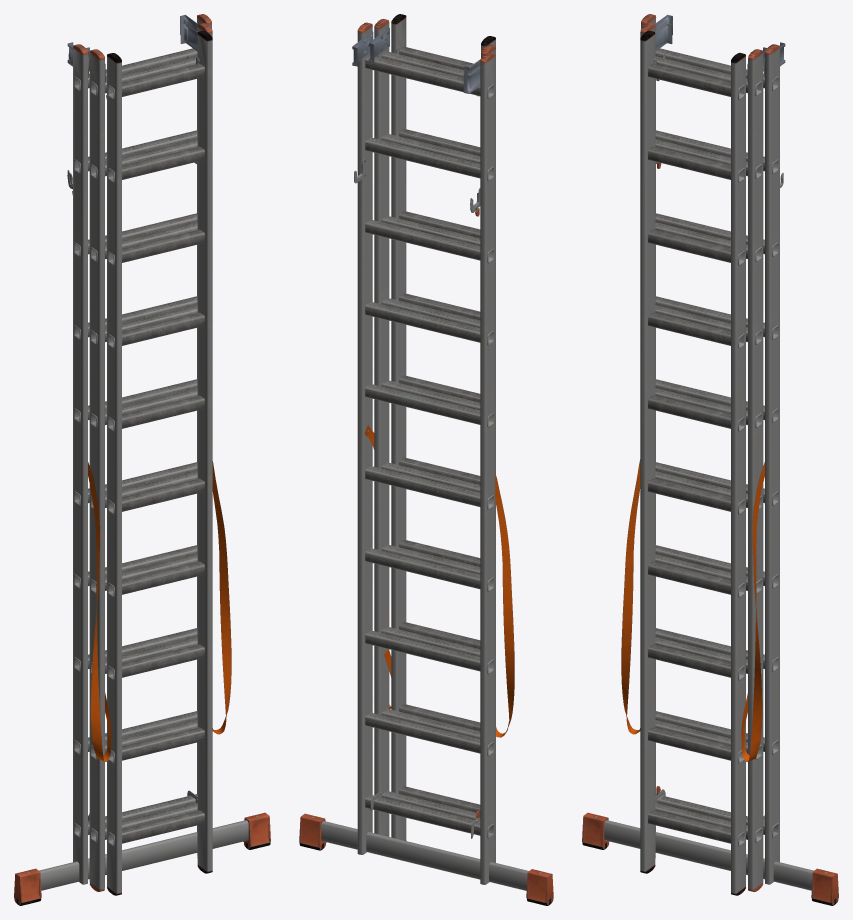
Rendered from ladder_sectioned_01.glb.
The picture shows the model from 3 angles, left to right: view 1: azimuth 30°, elevation 25°; view 2: azimuth 150°, elevation 25°; view 3: azimuth 330°, elevation 25°; orthographic projection.
Visible parts, largest first — view 1: ladder_section_01; view 2: ladder_section_01; view 3: ladder_section_01.
Part boxes in pixels (left/top/right/bottom): ladder_section_01: left=14, top=14, right=270, bottom=905; ladder_section_01: left=299, top=14, right=553, bottom=905; ladder_section_01: left=582, top=14, right=838, bottom=905.
Bounding box in the file's own units: 0.6615 × 2.13 × 0.1776.
Materials: 1 (1 with a texture image).
